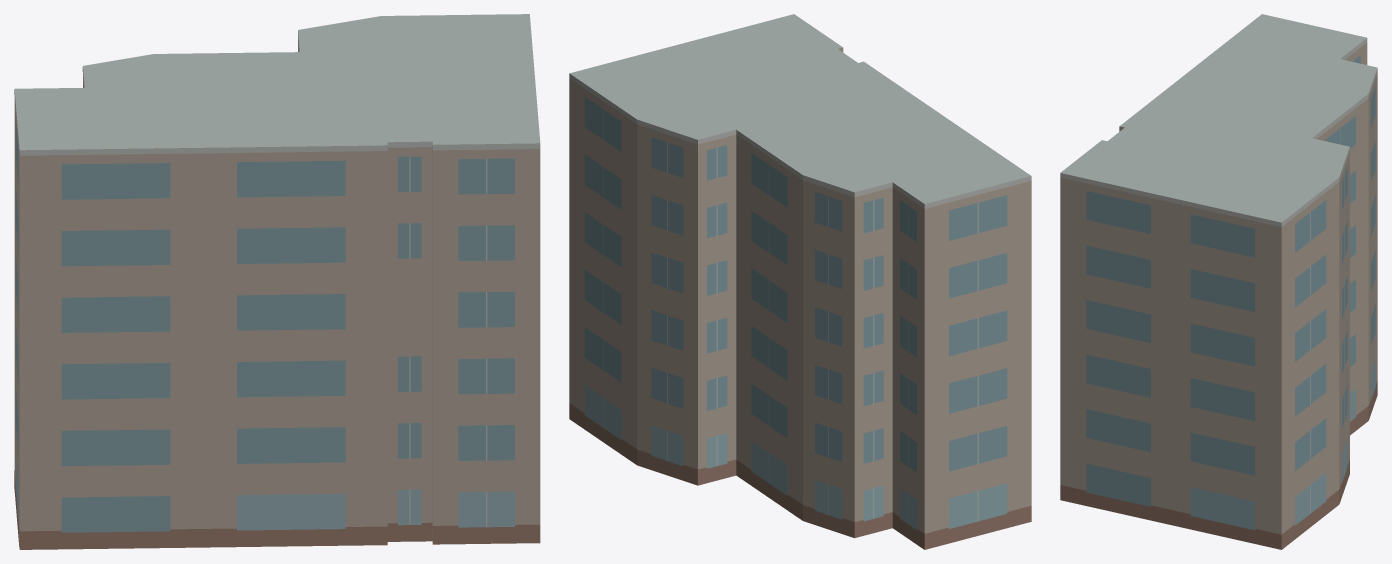
File: survey-upis-32585036.glb
3 renders of one model, left to right at view 1: azimuth 30°, elevation 25°; view 2: azimuth 150°, elevation 25°; view 3: azimuth 270°, elevation 25°, orthographic. The views are drawn at different scales.
Visible parts, largest first — view 1: survey-upis-32585036.tmp; view 2: survey-upis-32585036.tmp; view 3: survey-upis-32585036.tmp.
Boxes of the visible parts, bbox=[...] form: survey-upis-32585036.tmp: bbox=[14, 14, 540, 549]; survey-upis-32585036.tmp: bbox=[569, 14, 1031, 549]; survey-upis-32585036.tmp: bbox=[1060, 14, 1377, 549].
Size of the model in its own units: 24.08 by 17.6 by 15.48.
